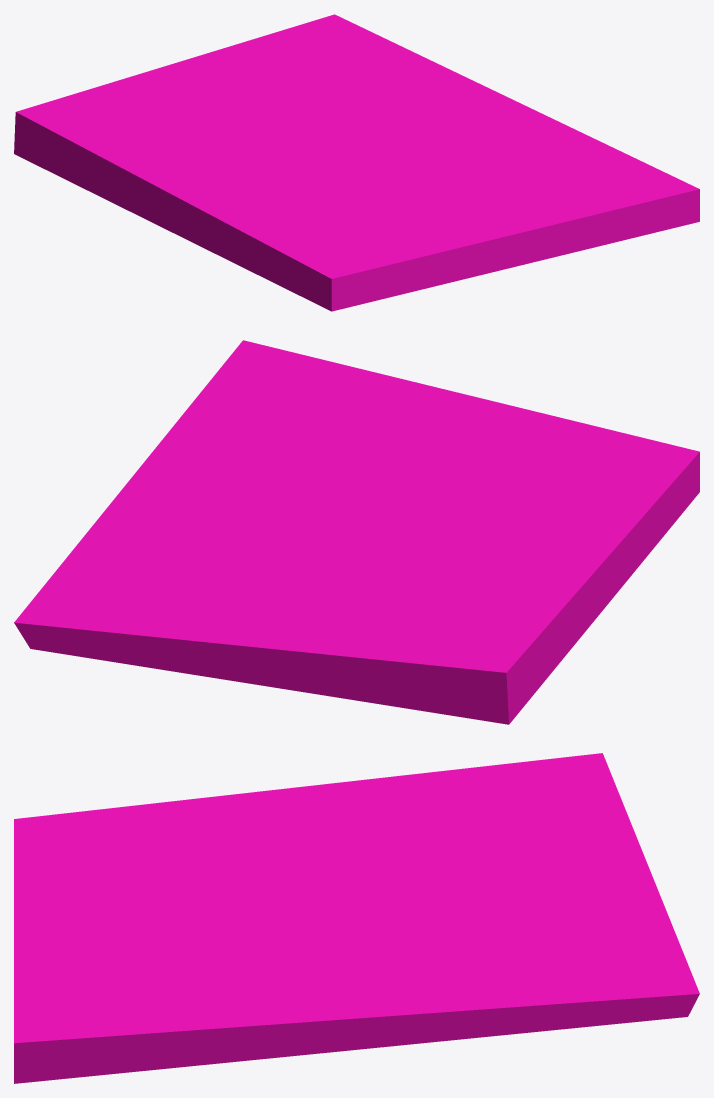
File: study_blanket_2_meshCollider.fbx
3 views of the same model, one above another, from view 1: azimuth 30°, elevation 25°; view 2: azimuth 150°, elevation 25°; view 3: azimuth 270°, elevation 25° (orthographic). The views are drawn at different scales.
Visible parts, largest first — view 1: study_blanket_2_meshCollider; view 2: study_blanket_2_meshCollider; view 3: study_blanket_2_meshCollider.
Boxes of the visible parts, bbox=[...] form: study_blanket_2_meshCollider: bbox=[14, 14, 699, 311]; study_blanket_2_meshCollider: bbox=[14, 340, 699, 724]; study_blanket_2_meshCollider: bbox=[14, 753, 699, 1083].
Bounding box in the file's own units: 31.05 × 3.06 × 32.85.
